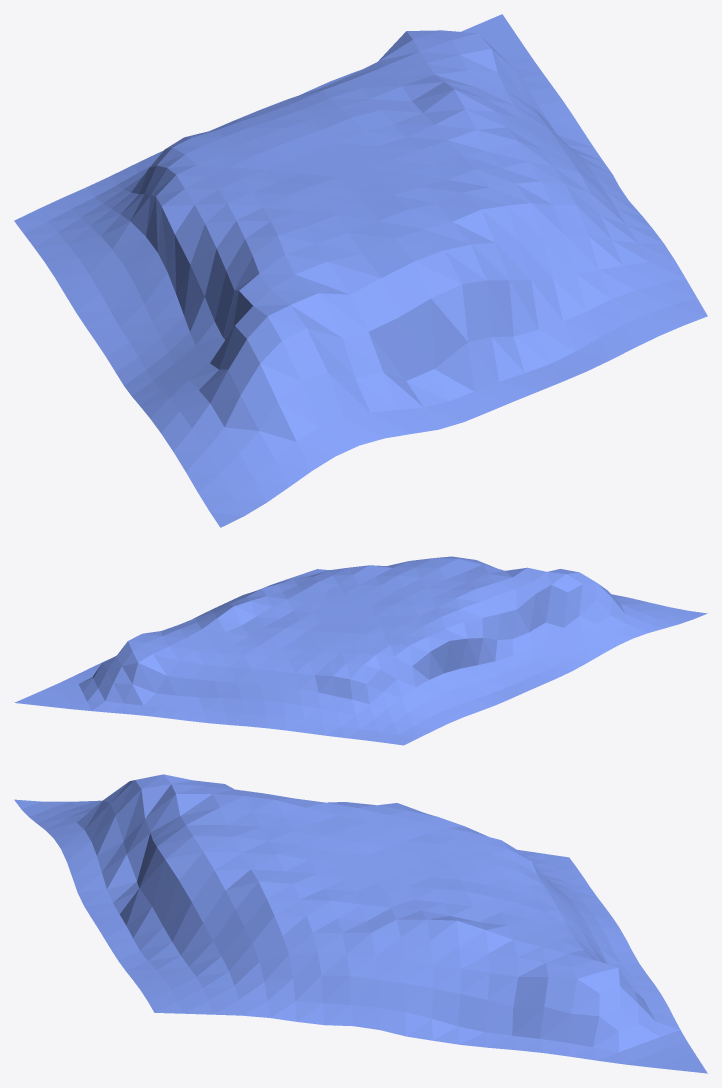
Rendered from exp_waterLand_fbx.fbx.
The picture shows the model from 3 angles, top to bottom: view 1: azimuth 30°, elevation 25°; view 2: azimuth 150°, elevation 25°; view 3: azimuth 270°, elevation 25°; orthographic projection. The views are drawn at different scales.
Parts seen in each view (by area): view 1: PM3D_waterLand_obj; view 2: PM3D_waterLand_obj; view 3: PM3D_waterLand_obj.
Part boxes in pixels (x1=…): PM3D_waterLand_obj: x1=14, y1=14, x2=707, y2=527; PM3D_waterLand_obj: x1=14, y1=556, x2=707, y2=745; PM3D_waterLand_obj: x1=14, y1=774, x2=707, y2=1073.
Bounding box in the file's own units: 44.38 × 6.4 × 47.51.
